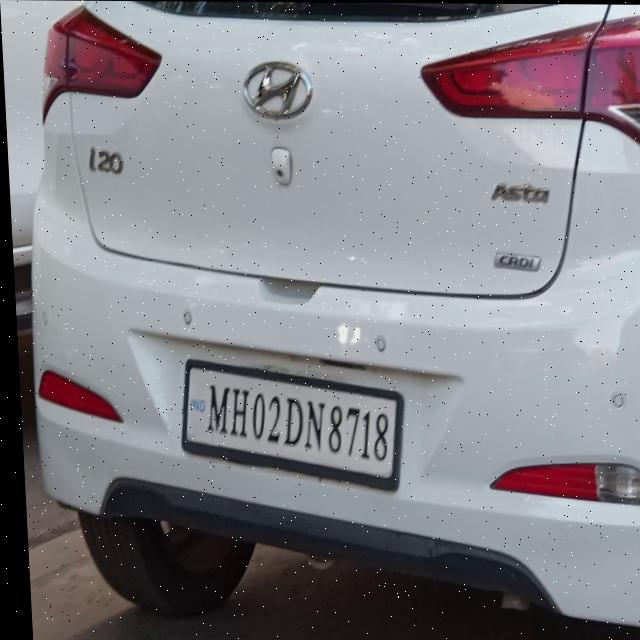plate: (172, 357, 404, 494)
